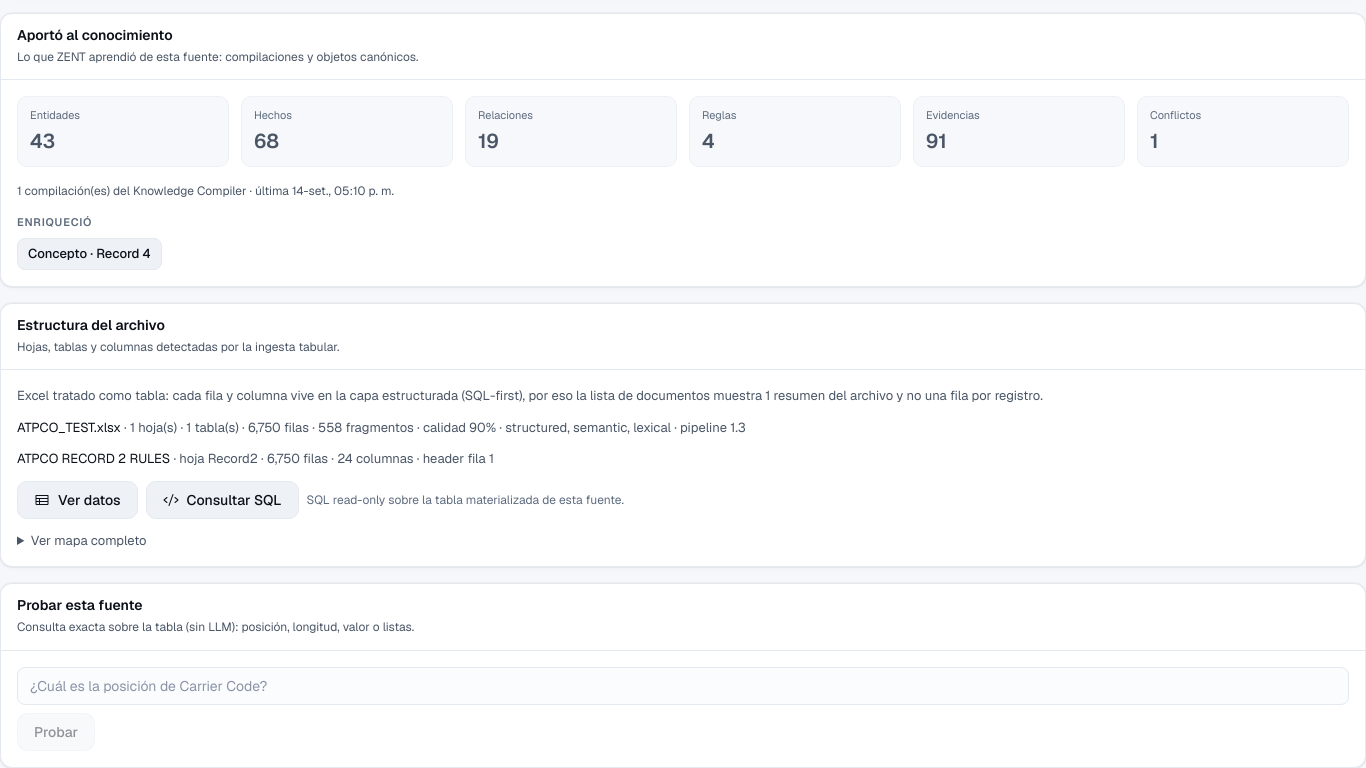
Scenario: SourceDetailPage › muestra la vista previa de la tabla materializada y ofrece SQL
(page scrolled)
Click the button with test id "source-preview-run".
click(77, 500)  # box [17,481,138,519]
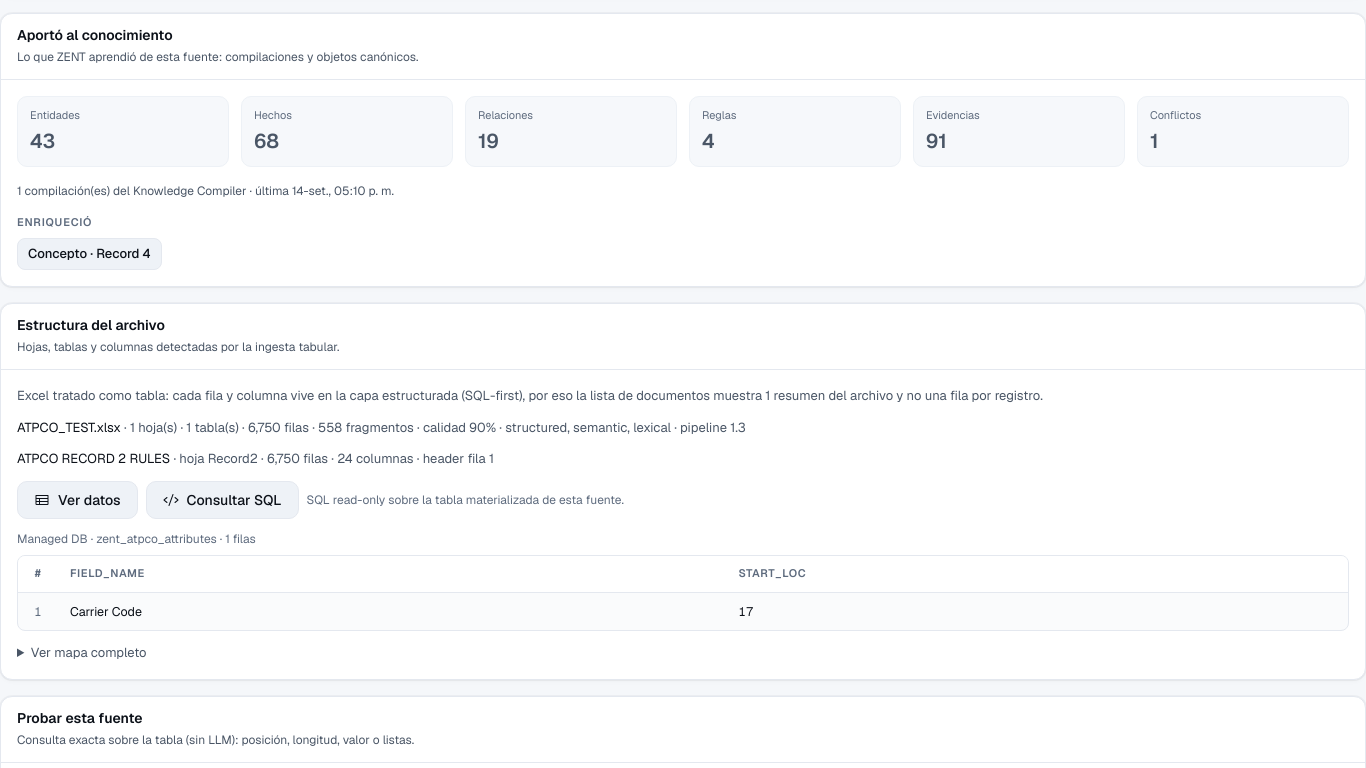
Check: the element with test id "source-preview" shows "zent_atpco_attributes", box [17,531,256,547]
Check: the element with test id "source-preview" shows "Carrier Code", box [70,603,142,620]
Check: the element with test id "source-preview" shows "Managed DB", box [17,531,256,547]
Click the button with test id "source-sql-open".
click(222, 500)  # box [146,481,298,519]
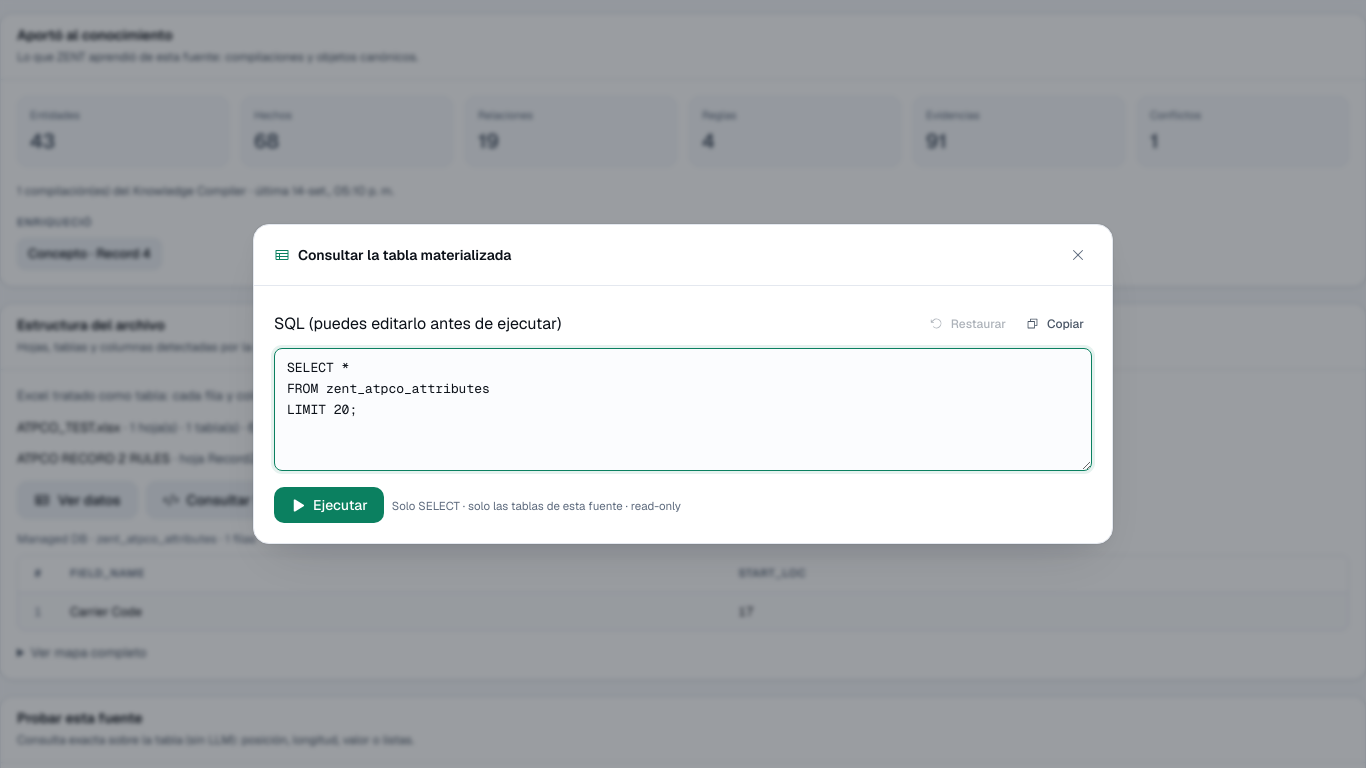
Check: the dialog "Consultar la tabla materializada" is shown
